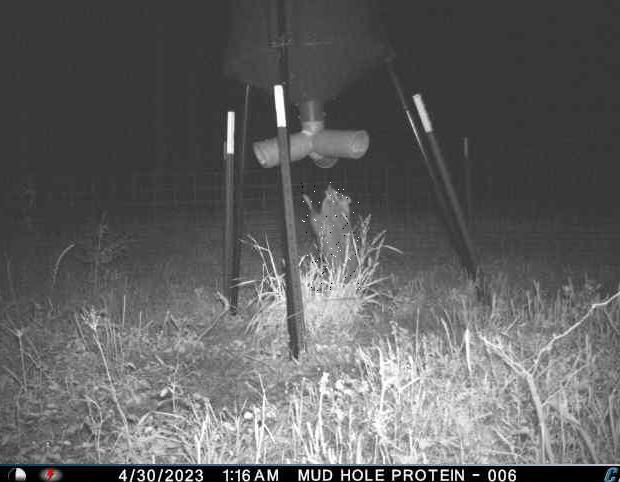Raccoon: (301, 183, 360, 293)
